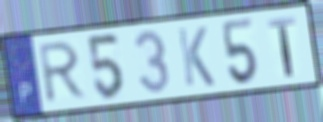3: (132, 28, 172, 98)
5: (218, 16, 261, 88), (86, 30, 126, 104)
K: (175, 25, 217, 89)
R: (37, 39, 89, 107)
T: (265, 14, 298, 79)
